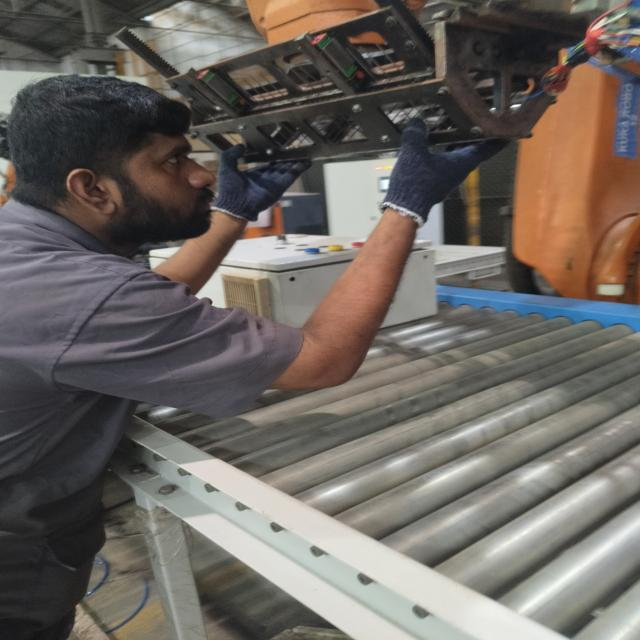Gloves-Detection: (388, 119, 471, 221), (213, 144, 306, 218)
